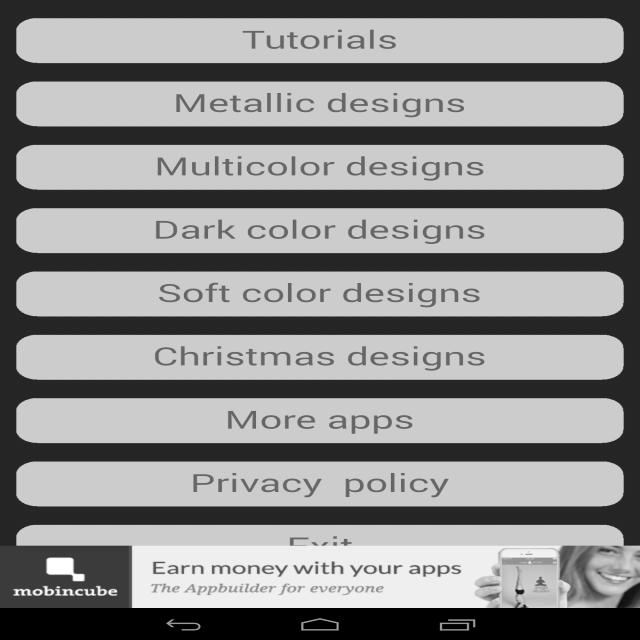TextView: (140, 142, 498, 188), (140, 554, 465, 601), (155, 275, 502, 313), (144, 338, 494, 375), (169, 465, 482, 506), (153, 86, 472, 126), (148, 214, 496, 243), (204, 392, 419, 438), (208, 22, 438, 62), (5, 579, 136, 602)
